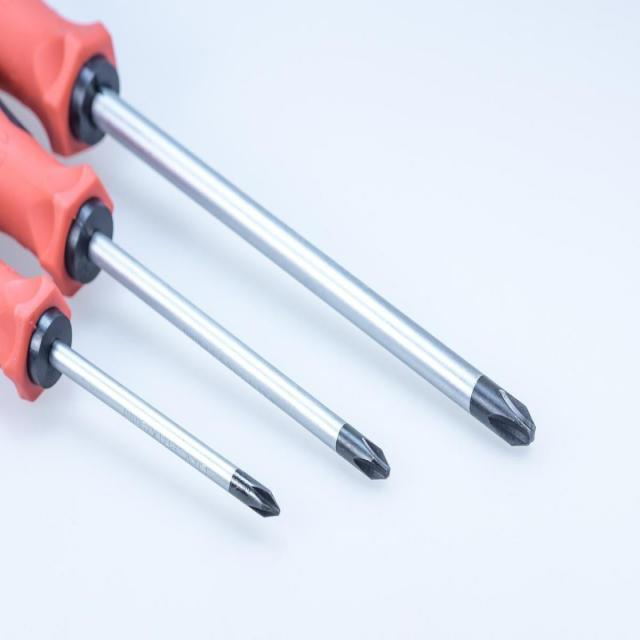screwdriver: (0, 0, 537, 446), (0, 96, 395, 480), (0, 255, 290, 528)
